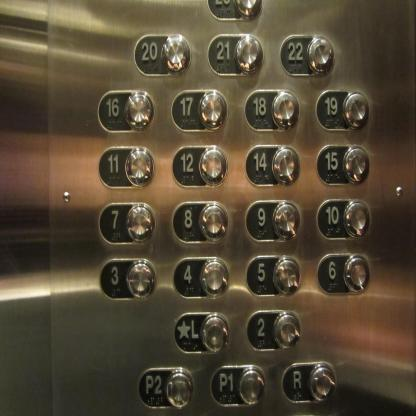10: (314, 195, 373, 240)
11: (96, 143, 157, 191)
12: (170, 144, 230, 189)
14: (243, 143, 303, 189)
15: (314, 142, 372, 188)
16: (96, 88, 156, 132)
17: (170, 87, 231, 133)
18: (243, 88, 301, 134)
19: (313, 89, 373, 130)
2: (244, 306, 304, 354)
20: (132, 32, 194, 76)
21: (206, 32, 267, 76)
22: (277, 34, 337, 78)
3: (97, 255, 159, 303)
4: (170, 254, 232, 302)
5: (244, 252, 303, 300)
6: (315, 250, 373, 298)
7: (96, 199, 155, 247)
8: (171, 199, 229, 245)
9: (242, 197, 302, 244)
P1: (208, 362, 268, 409)
P2: (136, 365, 193, 412)
R: (279, 359, 336, 406)
sL: (171, 309, 234, 356)
